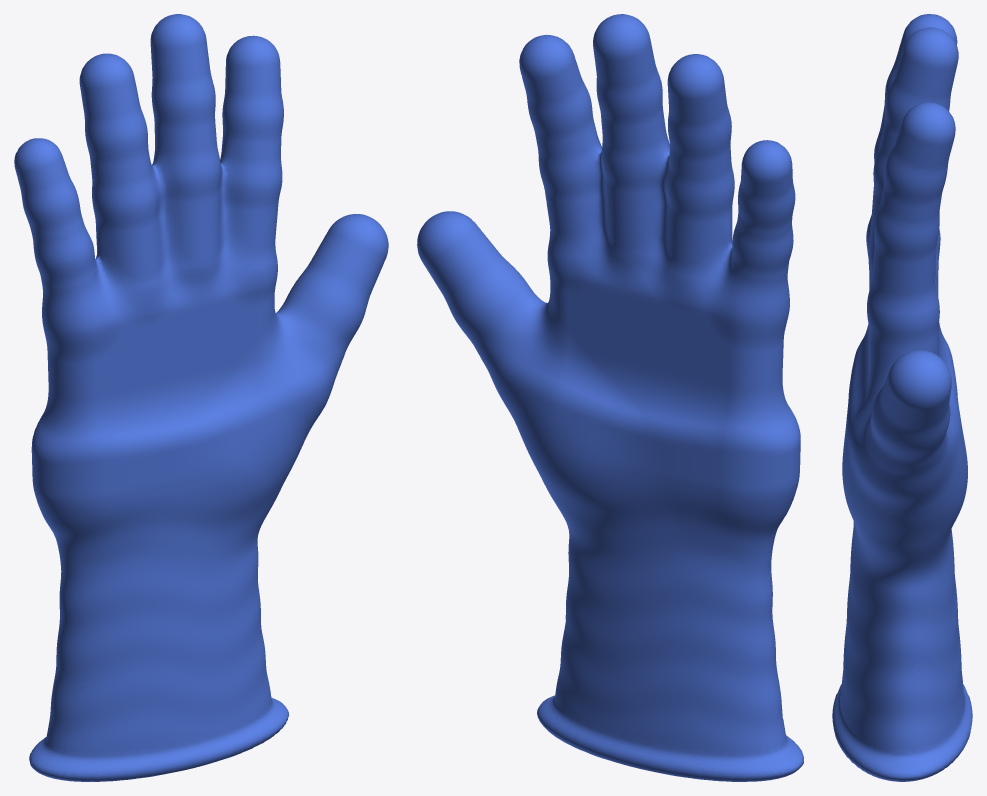
File: arosafe-glove.glb
3 renders of one model, left to right at view 1: azimuth 30°, elevation 25°; view 2: azimuth 150°, elevation 25°; view 3: azimuth 270°, elevation 25°, orthographic. The views are drawn at different scales.
Parts seen in each view (by area): view 1: Glove; view 2: Glove; view 3: Glove.
Boxes of the visible parts, box(x1,y1,x2,y2) form: Glove: box(14, 14, 388, 781); Glove: box(417, 14, 803, 781); Glove: box(832, 14, 972, 781).
Bounding box in the file's own units: 1.46 × 2.73 × 0.4878.
